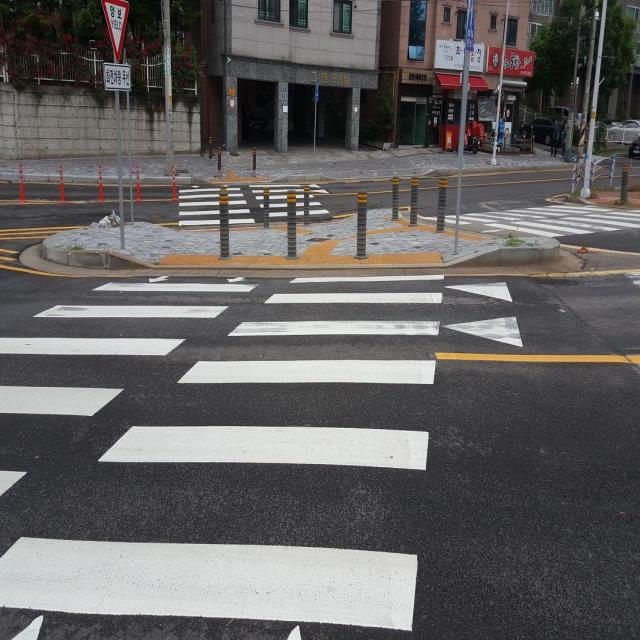횡단보도: (0, 271, 447, 640), (416, 199, 640, 244), (178, 181, 333, 226)
